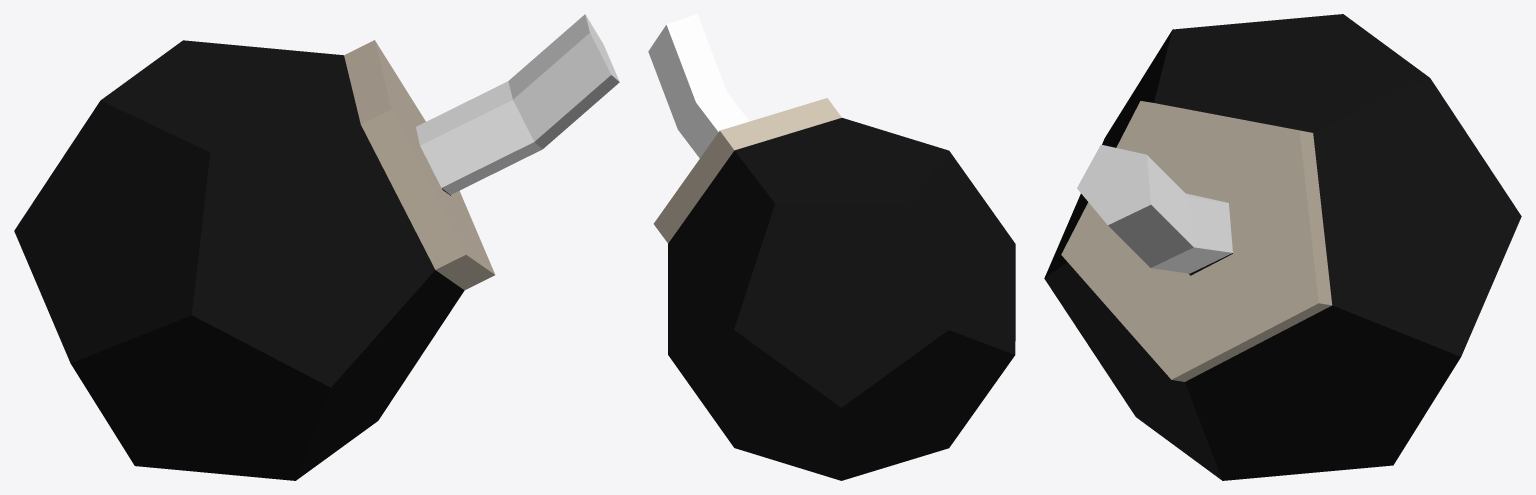
The model's file is Bombe.FBX.
3 views of the same model, side by side, from view 1: azimuth 30°, elevation 25°; view 2: azimuth 150°, elevation 25°; view 3: azimuth 270°, elevation 25° (orthographic). The views are drawn at different scales.
Parts seen in each view (by area): view 1: Hedra054, Cylinder012; view 2: Hedra054, Cylinder012; view 3: Hedra054, Cylinder012.
Part boxes in pixels (bbox=[...]): Hedra054: bbox=[14, 40, 495, 480]; Cylinder012: bbox=[416, 14, 619, 194]; Hedra054: bbox=[653, 98, 1015, 480]; Cylinder012: bbox=[648, 14, 749, 158]; Hedra054: bbox=[1044, 14, 1521, 480]; Cylinder012: bbox=[1077, 144, 1232, 273].
Size of the model in its own units: 97.41 by 73.95 by 76.87.
